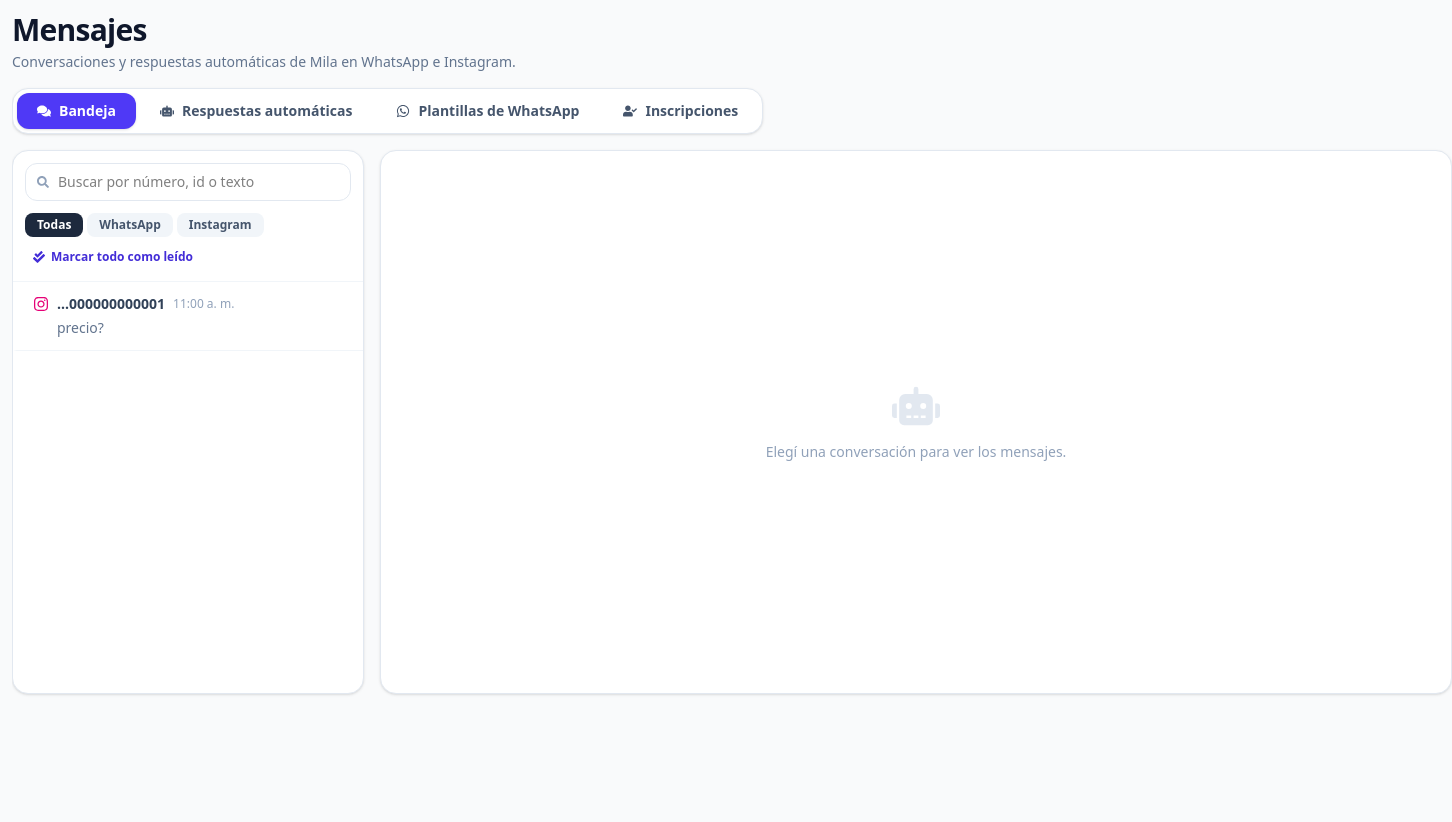
Test: BotMessagePage › inbox › shortens long ids in the list and shows them whole in the conversation
This screenshot has width=1452, height=822.
Click the text "...000000000001".
click(111, 304)  # box [57,294,165,314]
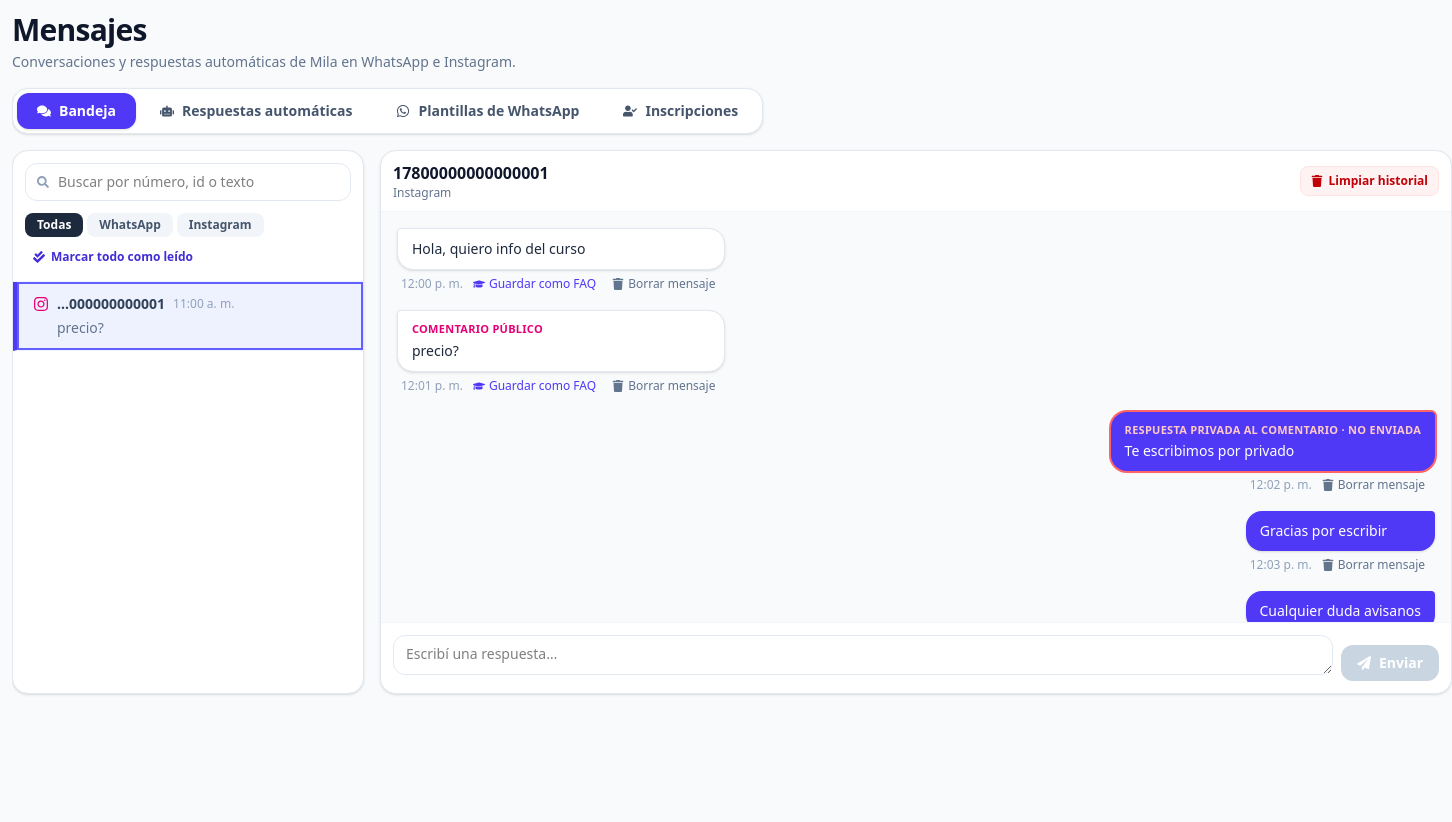
Expected: the heading "17800000000000001" is shown, [393,161,549,185]
